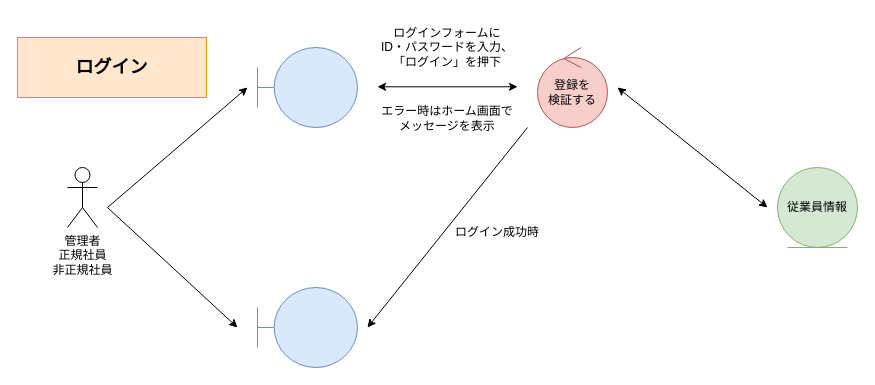
Some shapes in this 875 by 385 pixel diagram are drawn without their labels. Here are the shapes that lost their labels. From the top down, the centre of each, then its label:
At (307,87): "ホーム画面".
At (307,327): "ログイン済 ホーム画面".
